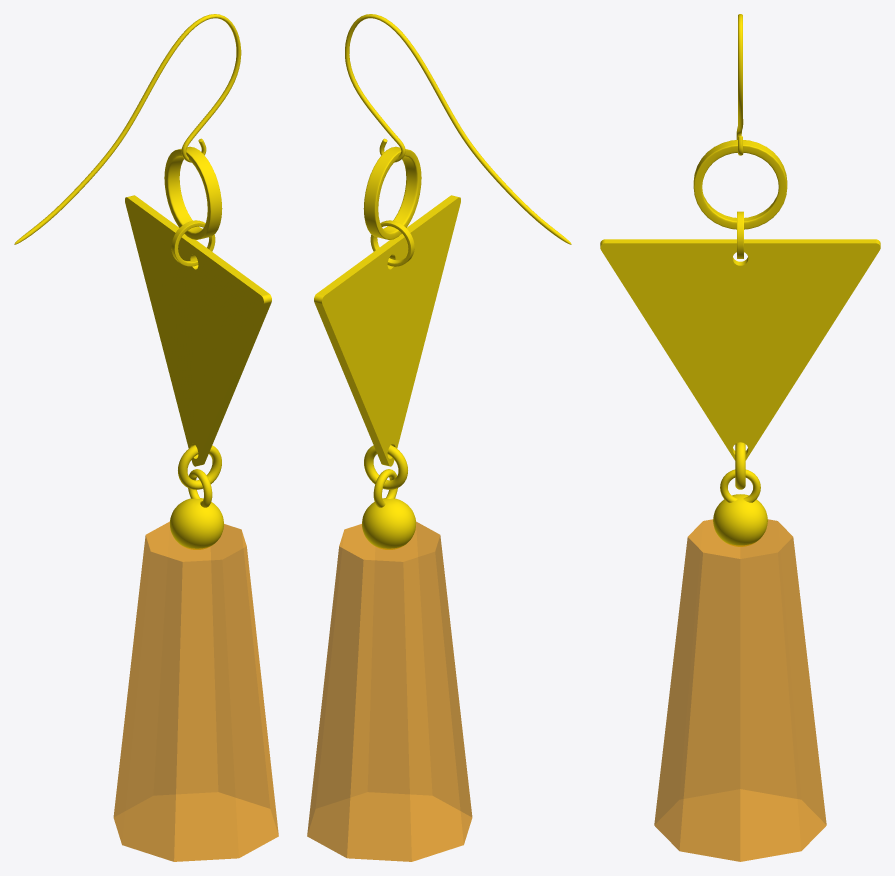
File: danglyBottom.glb
3 views of the same model, side by side, from view 1: azimuth 30°, elevation 25°; view 2: azimuth 150°, elevation 25°; view 3: azimuth 270°, elevation 25° (orthographic).
Visible parts, largest first — view 1: pCylinder8, pSphere2; view 2: pCylinder8, pSphere2; view 3: pCylinder8, pSphere2.
Boxes of the visible parts, box(x1,y1,x2,y2) form: pCylinder8: box(113, 521, 278, 861); pSphere2: box(14, 14, 271, 549); pCylinder8: box(307, 521, 472, 861); pSphere2: box(314, 14, 571, 549); pCylinder8: box(654, 519, 826, 861); pSphere2: box(600, 14, 880, 546).
Bounding box in the file's own units: 1.8 × 5.41 × 1.69.
